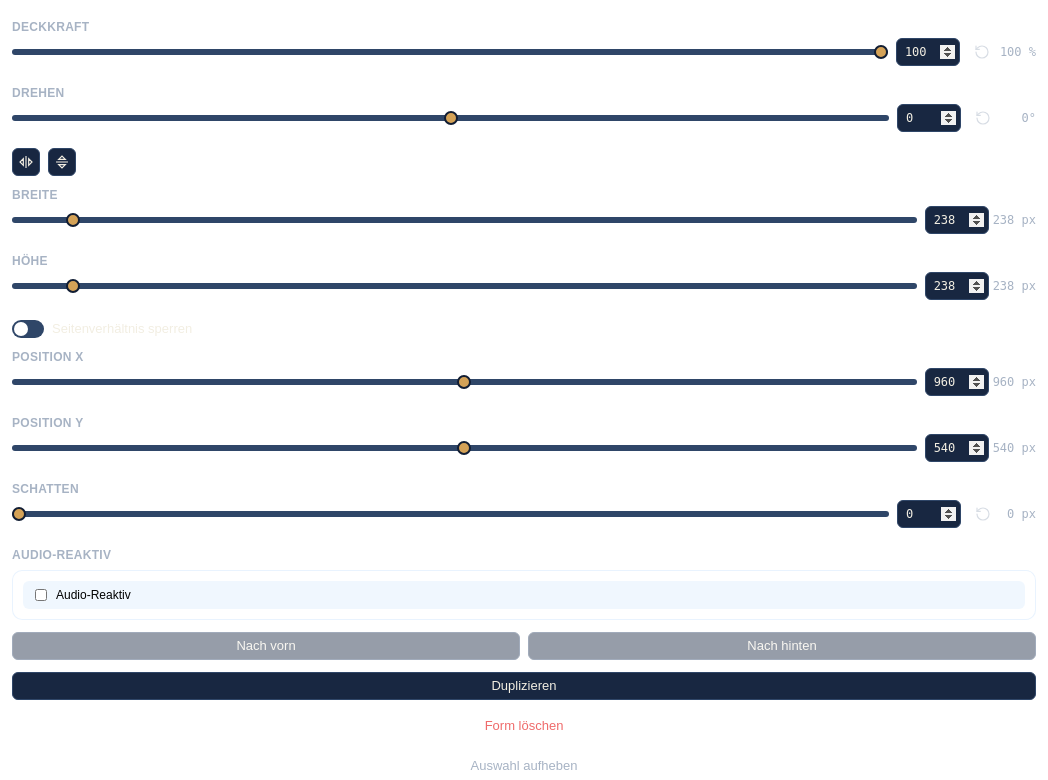
Scenario: ShapesPanel › zeigt Audio-Reaktiv für die ausgewählte Form und schreibt in deren Konfiguration
This screenshot has width=1048, height=780.
Expected: the element showing "Audio-Reaktiv" is shown, [12,570,1036,620]
Click the checkbox labelled "Audio-Reaktiv" at (41, 594), box [35,588,47,600]
(page scrolled)
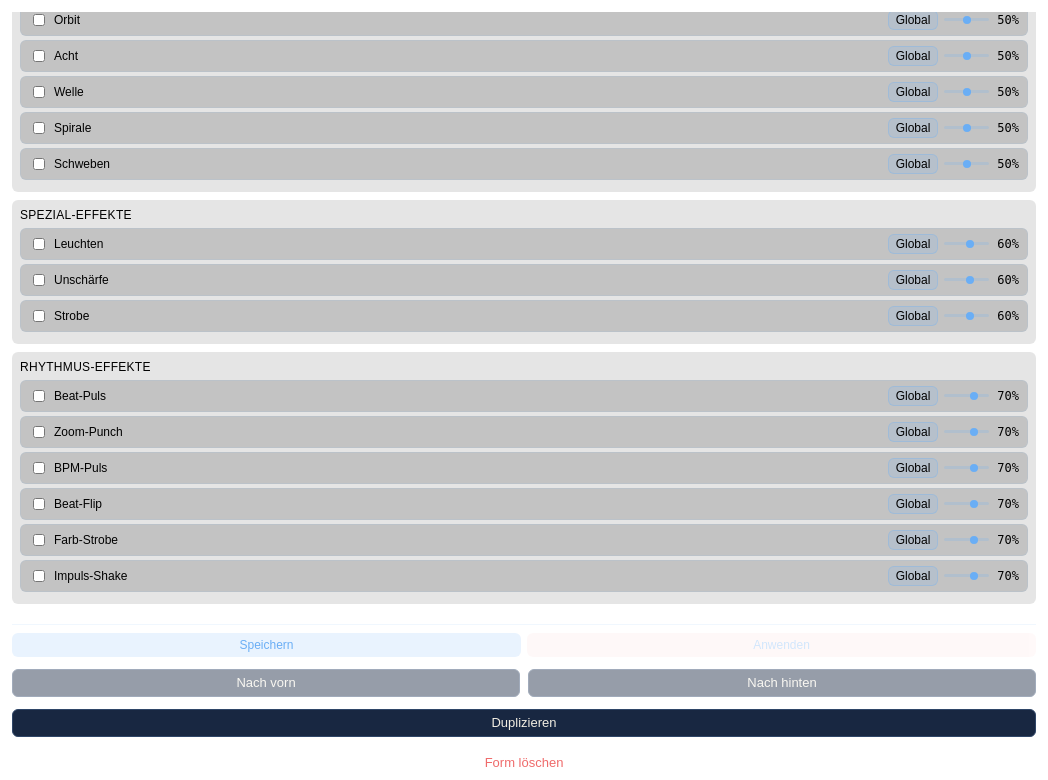
Now the element with class "effect-item" showing "Beat-Puls 70%" is shown, box [20,380,1028,412]
